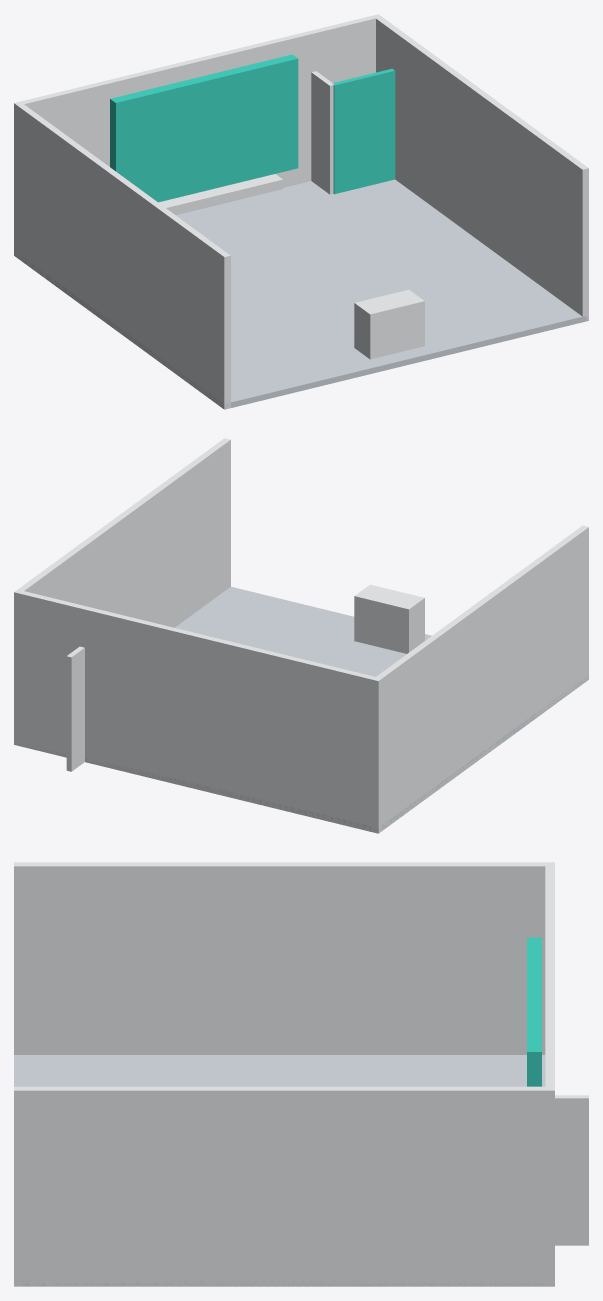
The picture shows the model from 3 angles, top to bottom: view 1: azimuth 30°, elevation 25°; view 2: azimuth 150°, elevation 25°; view 3: azimuth 270°, elevation 25°; orthographic projection. The views are drawn at different scales.
Visible parts, largest first — view 1: Exhibition Booth Concept; view 2: Exhibition Booth Concept; view 3: Exhibition Booth Concept.
Part boxes in pixels (bbox=[...]): Exhibition Booth Concept: bbox=[14, 14, 588, 409]; Exhibition Booth Concept: bbox=[14, 438, 588, 833]; Exhibition Booth Concept: bbox=[14, 862, 588, 1286].
Size of the model in its own units: 8 by 3.2 by 8.51.
